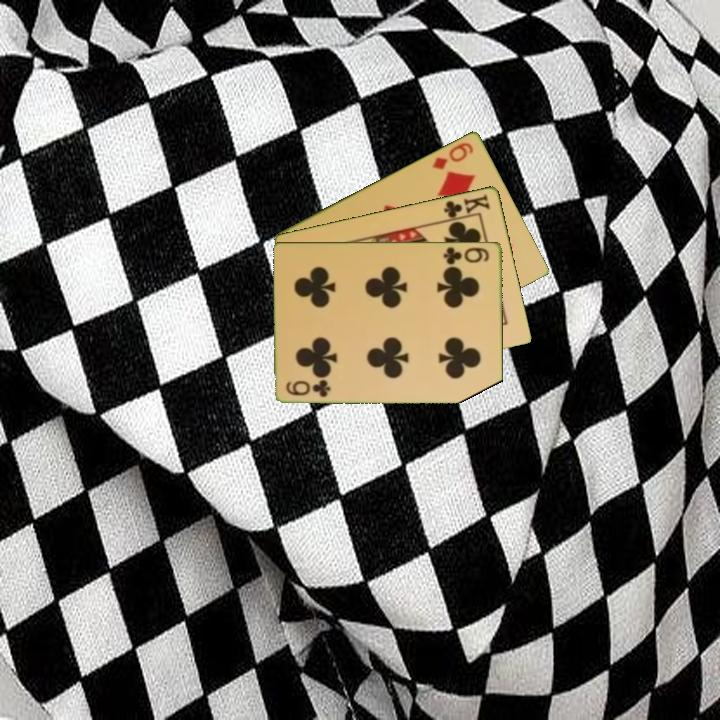6c: (440, 243, 492, 267), (283, 377, 333, 400)
6d: (428, 138, 476, 172)
Kc: (440, 190, 493, 223)
